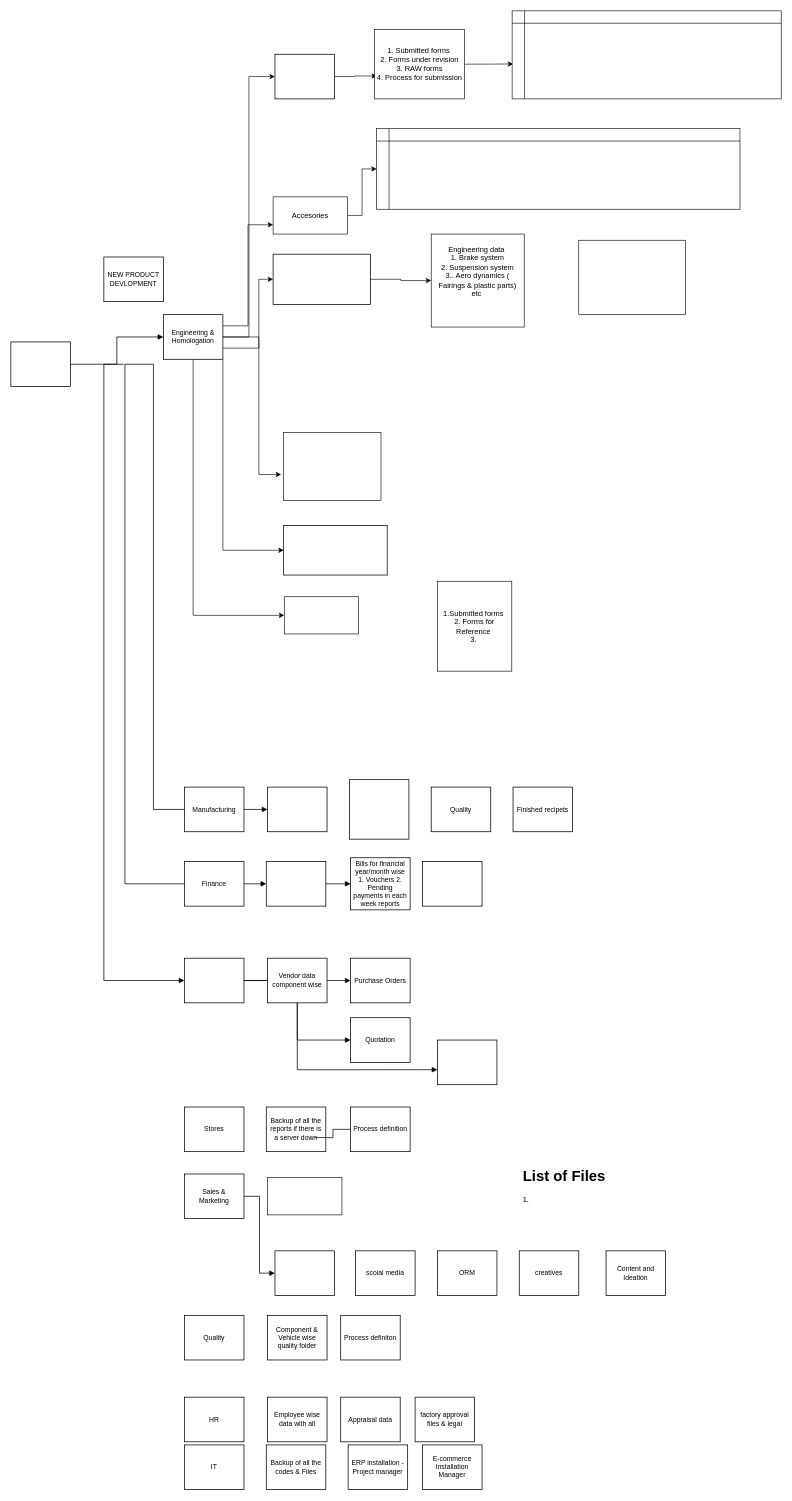
The diagram is 792 pixels wide and 1501 high, and some of its shapes have lost their labels. Each missing label, with the centre of its shape:
Accounts: point (296, 883)
Assembling data 1. BOM 2. Assembling process 3. Check point: point (631, 277)
Assembly section: point (297, 809)
Completed accesories: point (558, 168)
DM404: point (304, 1273)
Full vehicle: point (321, 279)
General Plan: point (304, 1196)
Homologation: point (321, 615)
New Product Development 1. Elite 2. Cross over 3.Family segment 4. Accesories: point (332, 466)
operations: point (214, 980)
Patent: point (304, 76)
Payment confirmation receipt: point (467, 1062)
Prana: point (40, 364)
Submitted forms 1. Mode changer2. Helmetet: point (646, 54)
Torque details, SOP: point (379, 809)
Vendor profile, catalogue, Best selected models and why: point (335, 550)
